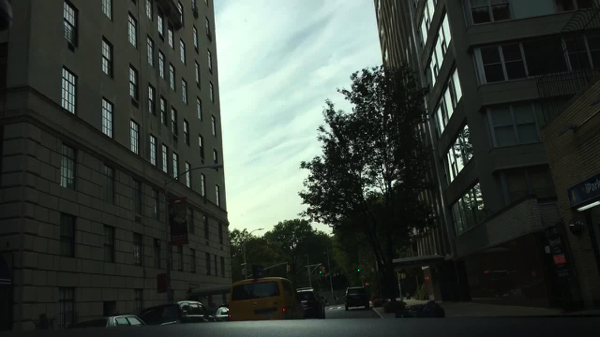car: (226, 277, 305, 322), (138, 301, 215, 327), (67, 314, 147, 329), (296, 286, 327, 320), (342, 286, 371, 310), (207, 305, 228, 321)
traffic light: (319, 265, 322, 278), (323, 265, 326, 275), (357, 265, 360, 273), (286, 265, 289, 273)
